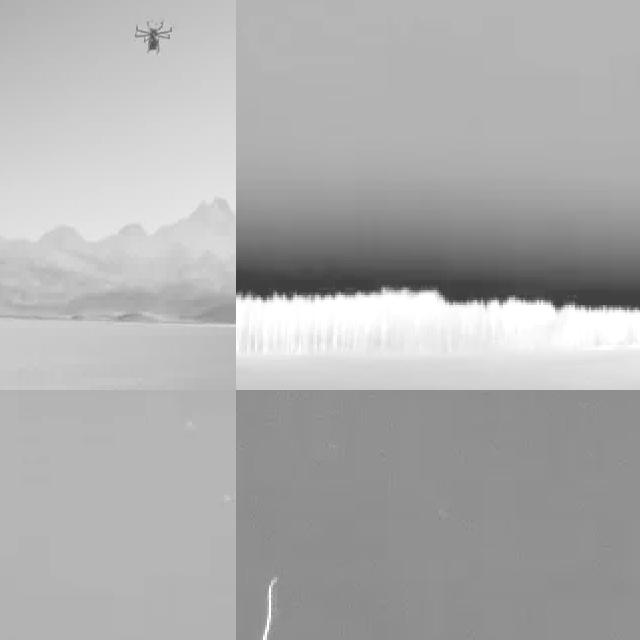0: (218, 487, 236, 514), (182, 415, 204, 437)
drone: (135, 11, 172, 63)
